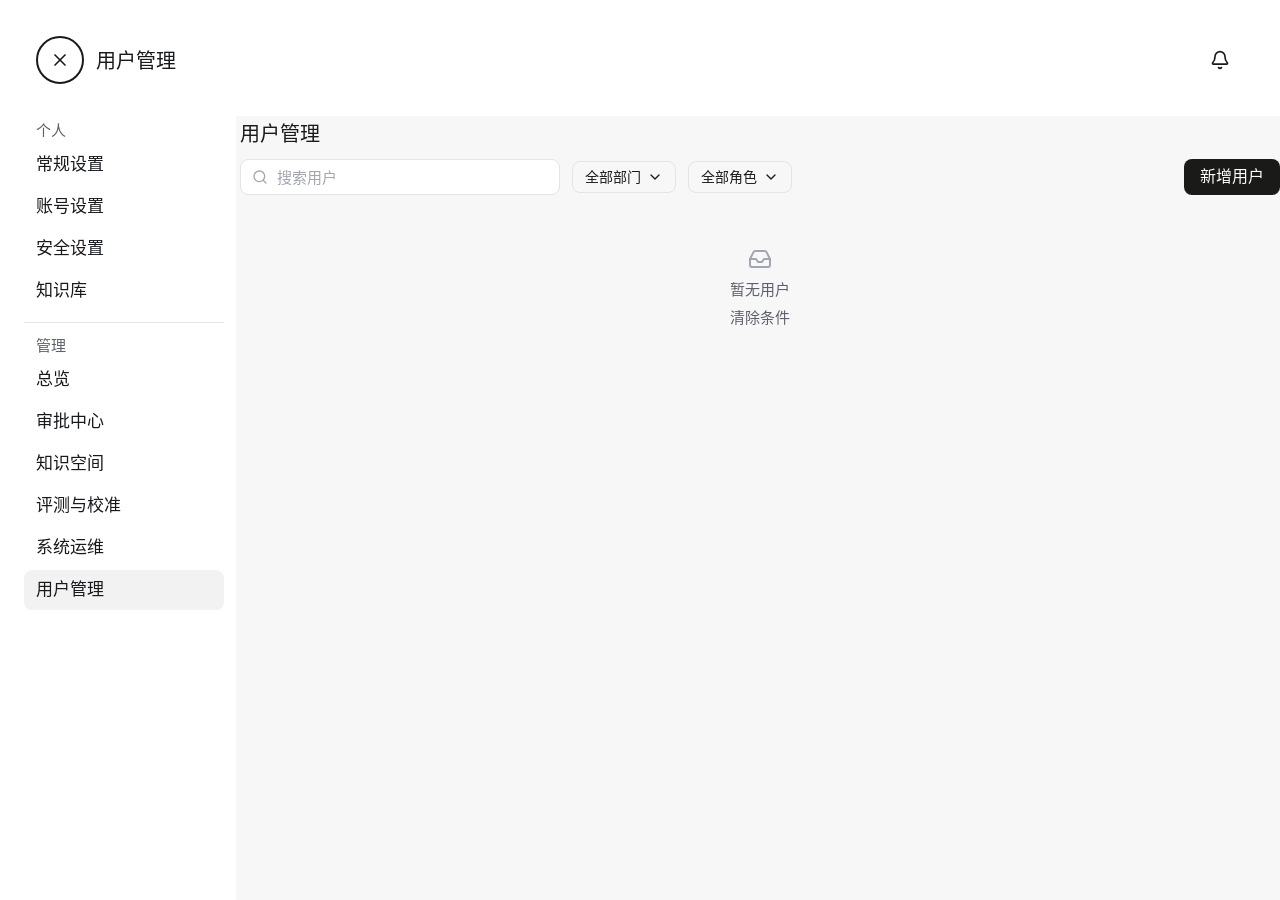
Test: 抽屉作用域挂载与左栏新显示名（drawer-visual-system） › 抽屉内打开的管理段筛选浮层同样自带作用域属性（UsersModule Popover）
Click the button "全部部门" at (624, 177), box [572, 161, 676, 193]
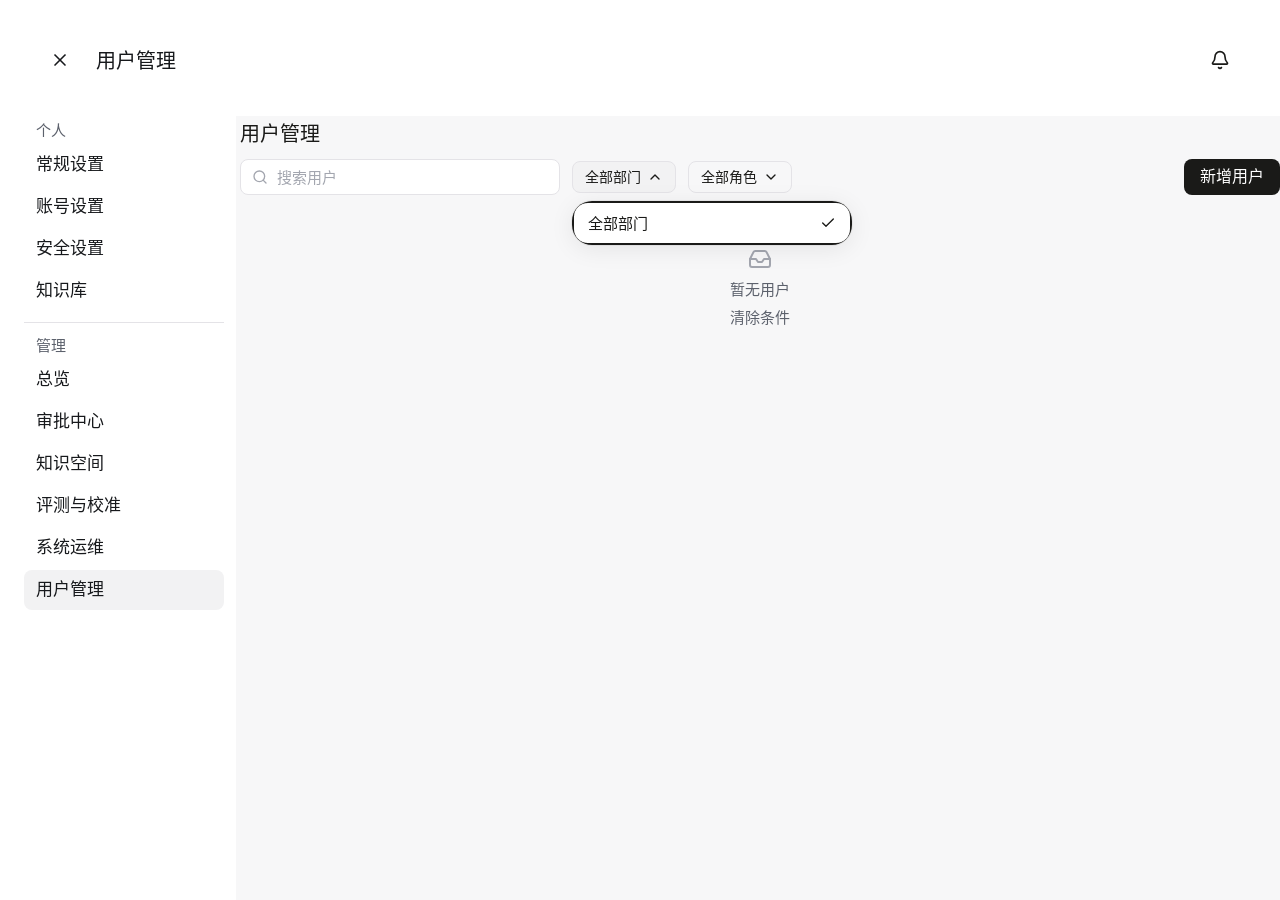
Expected: the dialog "部门" is shown, [572, 201, 852, 245]
